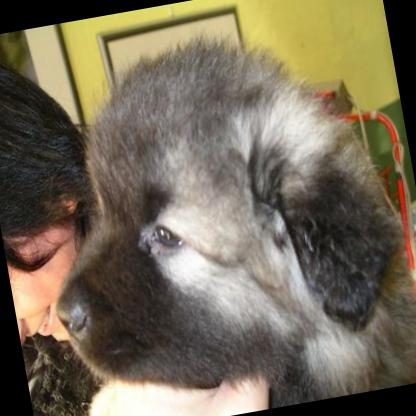keeshond: (10, 0, 416, 416)
